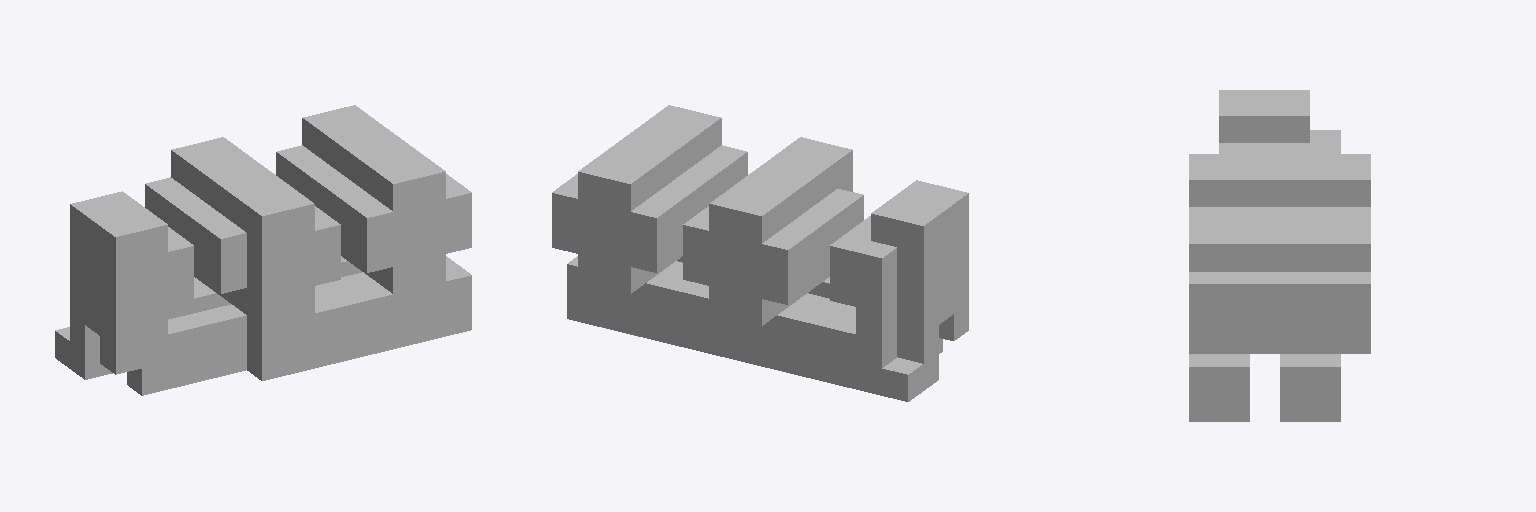
The model's file is wood bridge ошметек 4.obj.
3 renders of one model, left to right at view 1: azimuth 30°, elevation 25°; view 2: azimuth 150°, elevation 25°; view 3: azimuth 270°, elevation 25°, orthographic.
Visible parts, largest first — view 1: object 1; view 2: object 1; view 3: object 1.
Boxes of the visible parts, x1=… form: object 1: x1=55, y1=105, x2=471, y2=395; object 1: x1=552, y1=105, x2=968, y2=401; object 1: x1=1189, y1=90, x2=1370, y2=421.
Bounding box in the file's own units: 1.3 × 0.6 × 0.6.